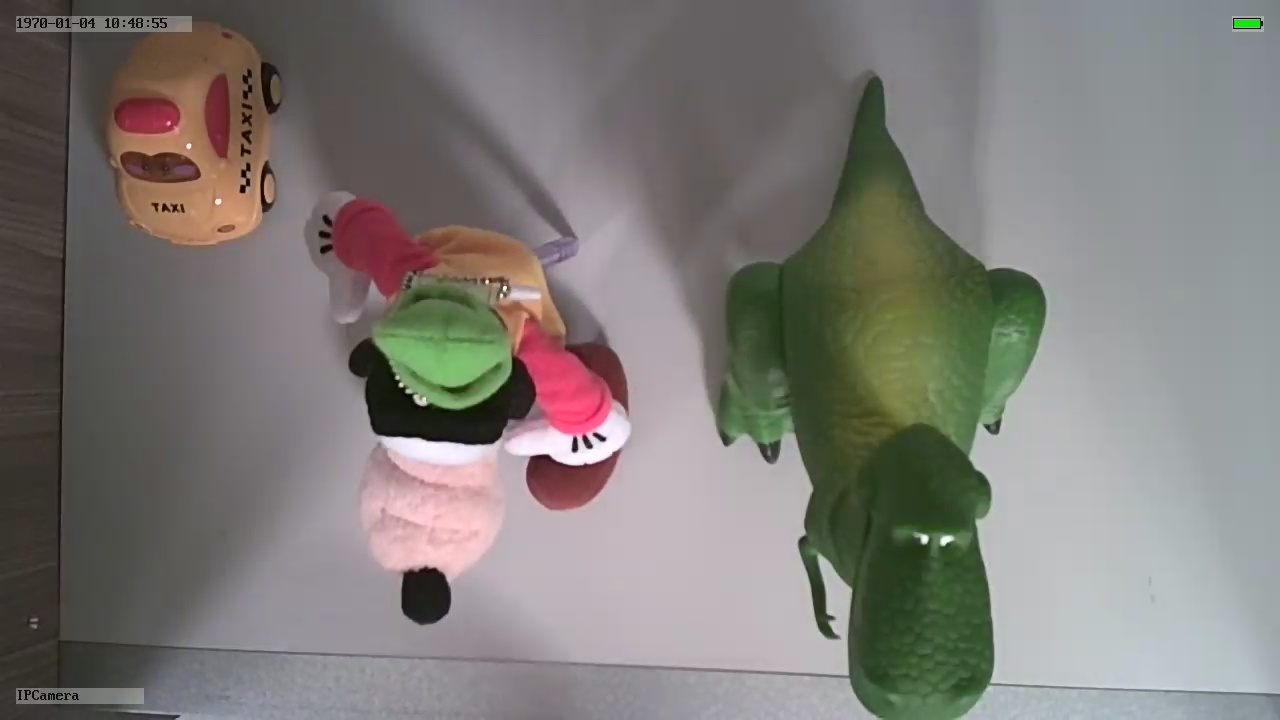car: (106, 20, 282, 248)
goofy: (296, 183, 642, 641)
rex: (718, 166, 1049, 720)
